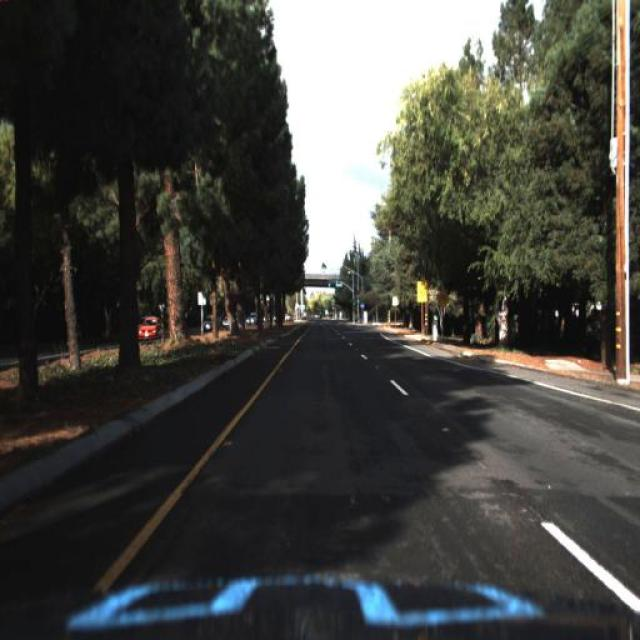car: (135, 312, 174, 353)
